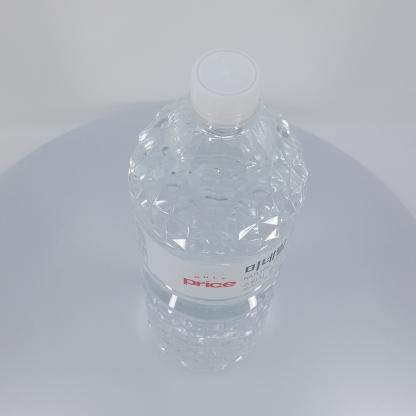--------------: (128, 47, 309, 372)
